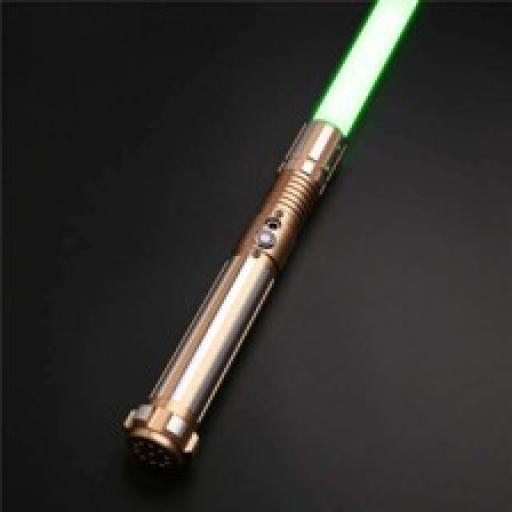lightsaber: (128, 0, 426, 477)
